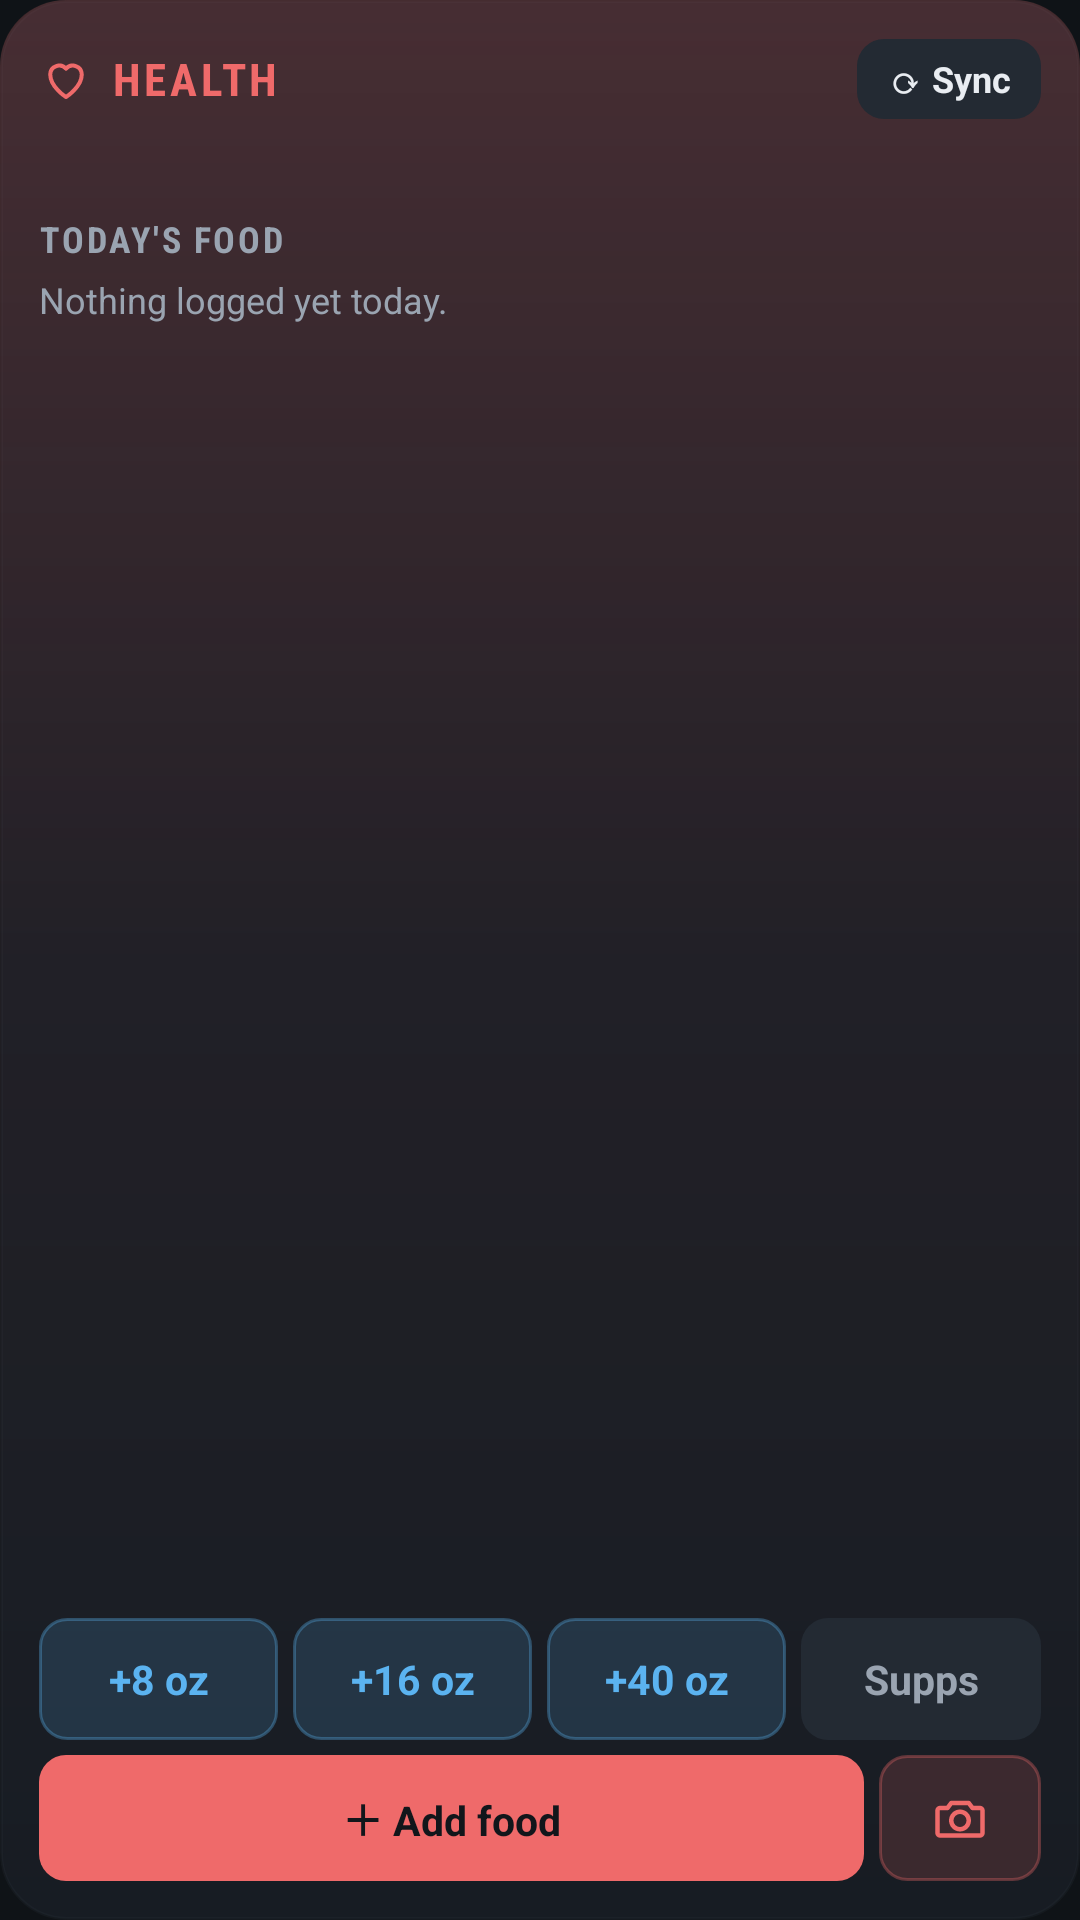

Named icons in this screenshot (1080x1920) and their centers, point (x, y):
camera health: point (960, 1819)
